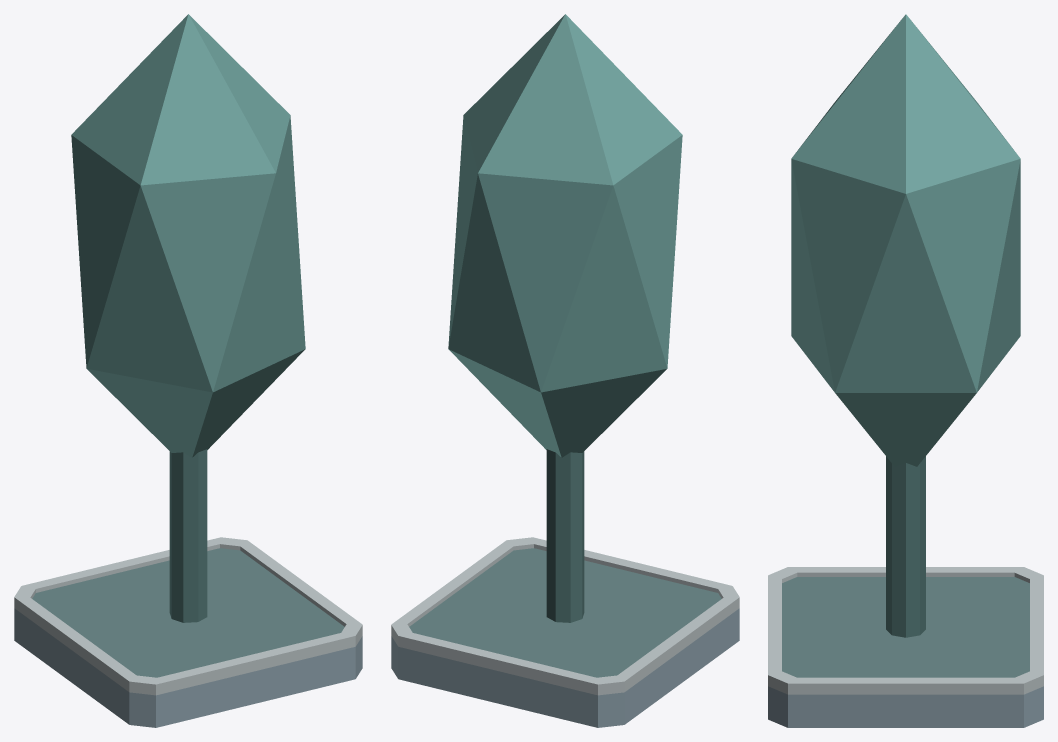
File: campus_tree_tall_v01.glb
The picture shows the model from 3 angles, left to right: view 1: azimuth 30°, elevation 25°; view 2: azimuth 150°, elevation 25°; view 3: azimuth 270°, elevation 25°; orthographic projection. The views are drawn at different scales.
Parts seen in each view (by area): view 1: campus_tree_tall; view 2: campus_tree_tall; view 3: campus_tree_tall.
Part boxes in pixels (box(x1,y1,x2,y2)): campus_tree_tall: box(14, 14, 362, 727); campus_tree_tall: box(391, 14, 739, 727); campus_tree_tall: box(768, 14, 1043, 727).
Bounding box in the file's own units: 1.8 × 4.72 × 1.8.
